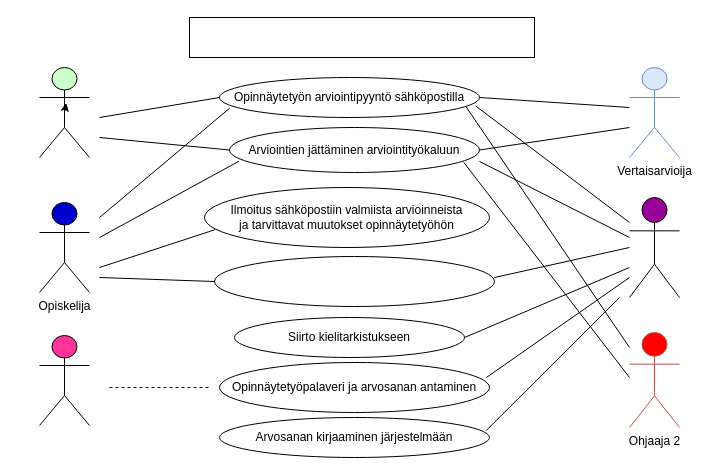
Some shapes in this 709 by 475 pixel diagram are drawn without their labels. Each missing label, with the centre of its shape:
Koulutusvastaava: point 64,380
Ohjaaja 1: point 654,247
Opinnäytetyön hyväksyminen valmiiksi: point 354,281
Tilaaja: point 64,112
USE CASE: OPINNÄYTETYÖN ARVIOINTI: point 361,37
